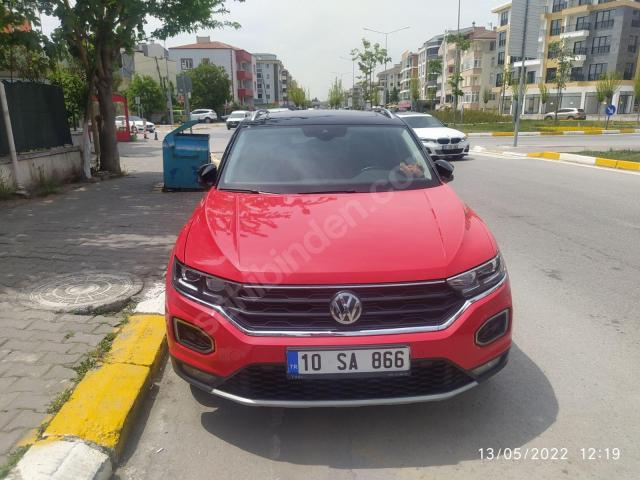plaka: (286, 346, 410, 378)
